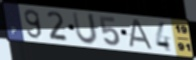2: (47, 11, 70, 43)
4: (153, 20, 175, 54)
5: (98, 15, 122, 47)
9: (23, 9, 43, 40)
A: (126, 19, 155, 51)
U: (71, 11, 99, 47)
